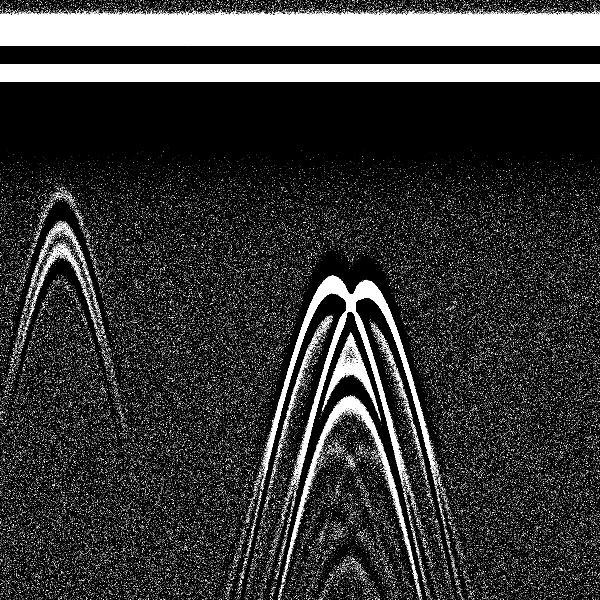pipe: (319, 6, 418, 365), (283, 9, 378, 360), (18, 7, 106, 289)
